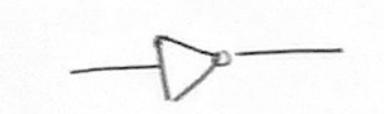NOT: (146, 27, 248, 109)
